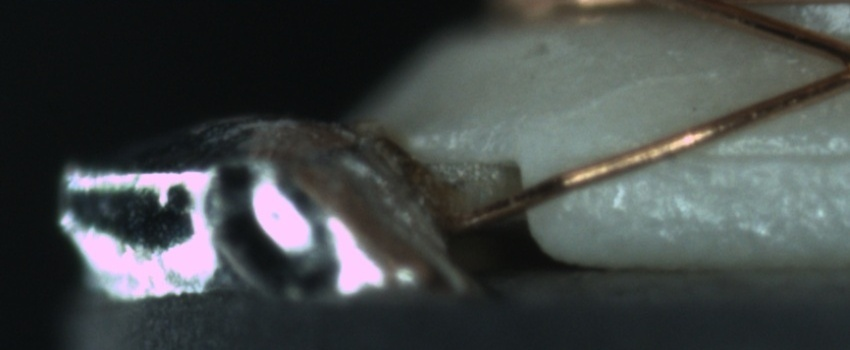DL: (640, 124, 850, 185)
